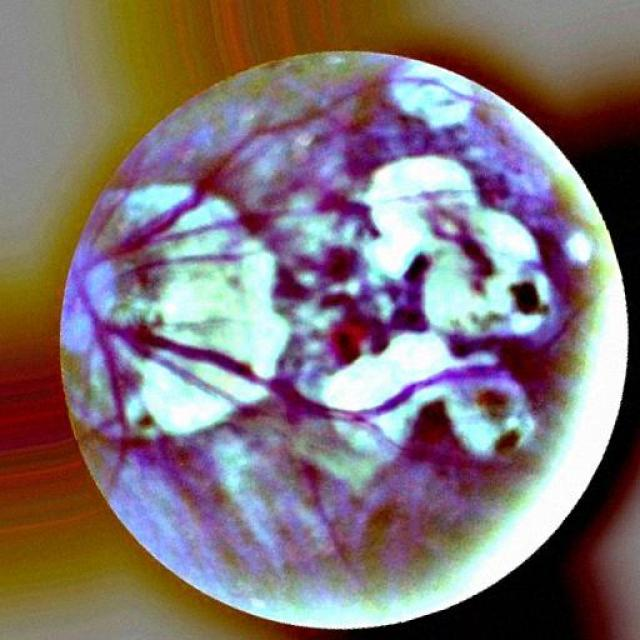Macula: (301, 307, 384, 359)
Nerves: (109, 102, 340, 250), (88, 292, 257, 382), (97, 338, 131, 480)
Optic Disk: (53, 191, 265, 431)
